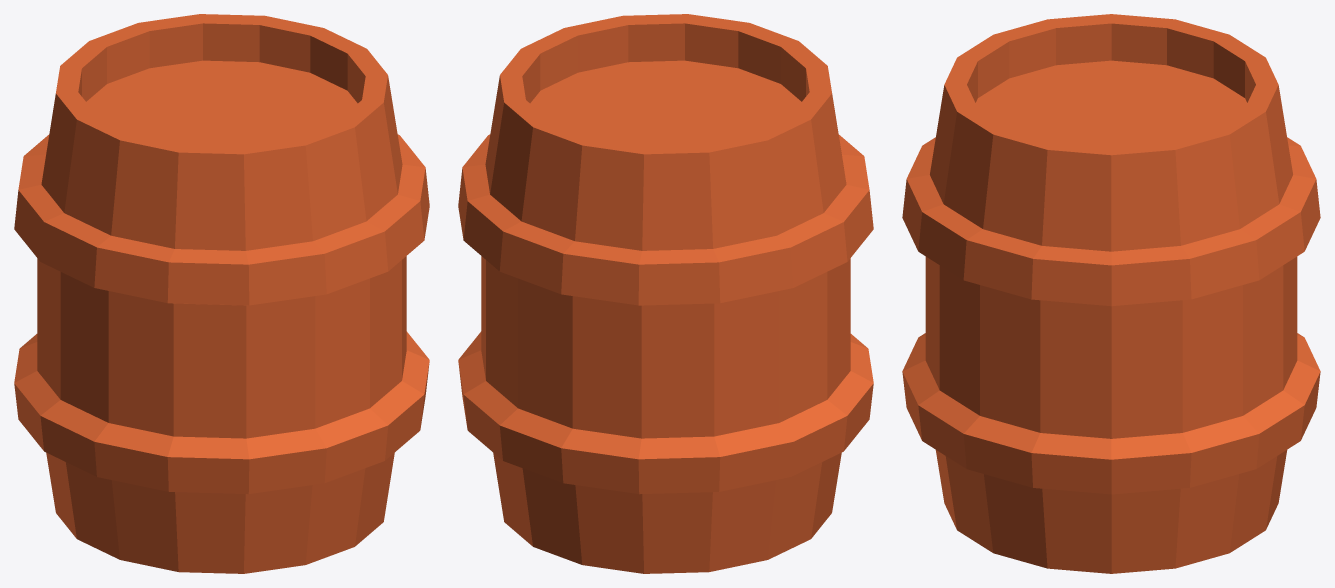
File: Barrel.fbx
3 views of the same model, side by side, from view 1: azimuth 30°, elevation 25°; view 2: azimuth 150°, elevation 25°; view 3: azimuth 270°, elevation 25° (orthographic).
Visible parts, largest first — view 1: Cylinder.001; view 2: Cylinder.001; view 3: Cylinder.001.
Part boxes in pixels (box(x1,y1,x2,y2)): Cylinder.001: box(14, 14, 429, 573); Cylinder.001: box(458, 14, 873, 573); Cylinder.001: box(902, 14, 1320, 573).
Bounding box in the file's own units: 250 × 276 × 250.
